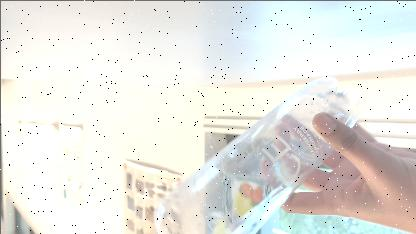Plastic Bottle: (136, 72, 362, 234)
